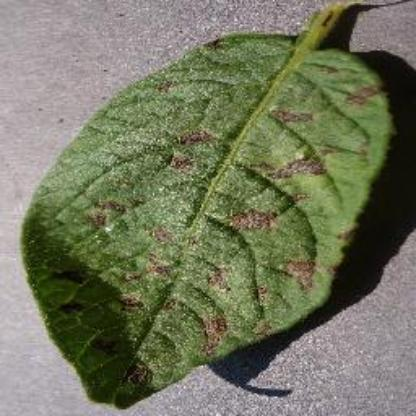Early-Blight: (16, 11, 396, 409)
